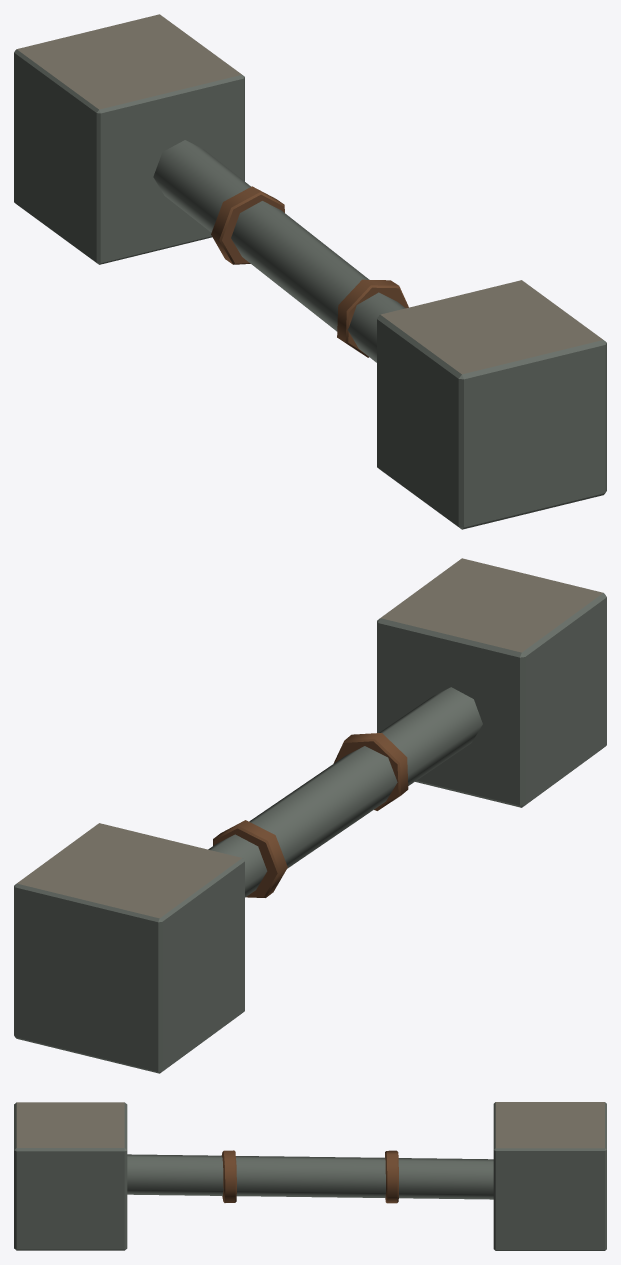
File: R4C_STRUT_LONG_LOD1.fbx
The picture shows the model from 3 angles, top to bottom: view 1: azimuth 30°, elevation 25°; view 2: azimuth 150°, elevation 25°; view 3: azimuth 270°, elevation 25°; orthographic projection. The views are drawn at different scales.
Visible parts, largest first — view 1: R4C_STRUT_LONG_LOD1; view 2: R4C_STRUT_LONG_LOD1; view 3: R4C_STRUT_LONG_LOD1.
Boxes of the visible parts, x1=… form: R4C_STRUT_LONG_LOD1: x1=14, y1=14, x2=606, y2=529; R4C_STRUT_LONG_LOD1: x1=14, y1=558, x2=606, y2=1073; R4C_STRUT_LONG_LOD1: x1=14, y1=1102, x2=606, y2=1250.
Bounding box in the file's own units: 0.52 × 0.52 × 2.72.
